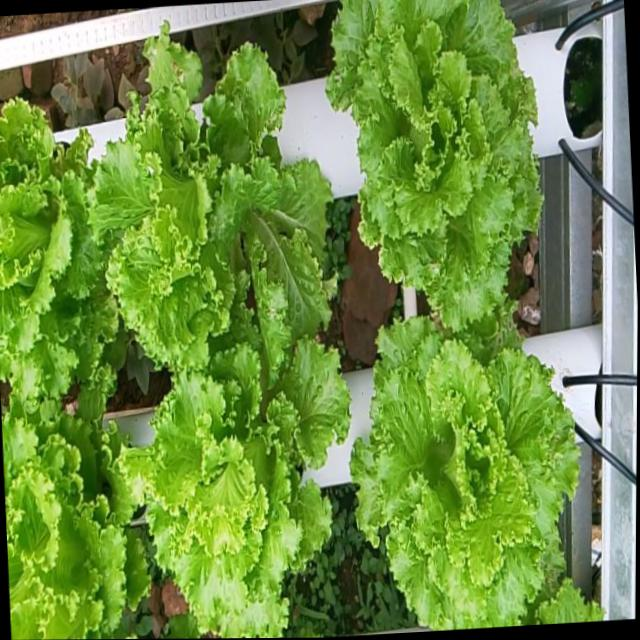Mature: (87, 35, 330, 373), (345, 320, 592, 631), (323, 0, 539, 337), (127, 321, 346, 638), (1, 396, 144, 640), (0, 97, 112, 398)
